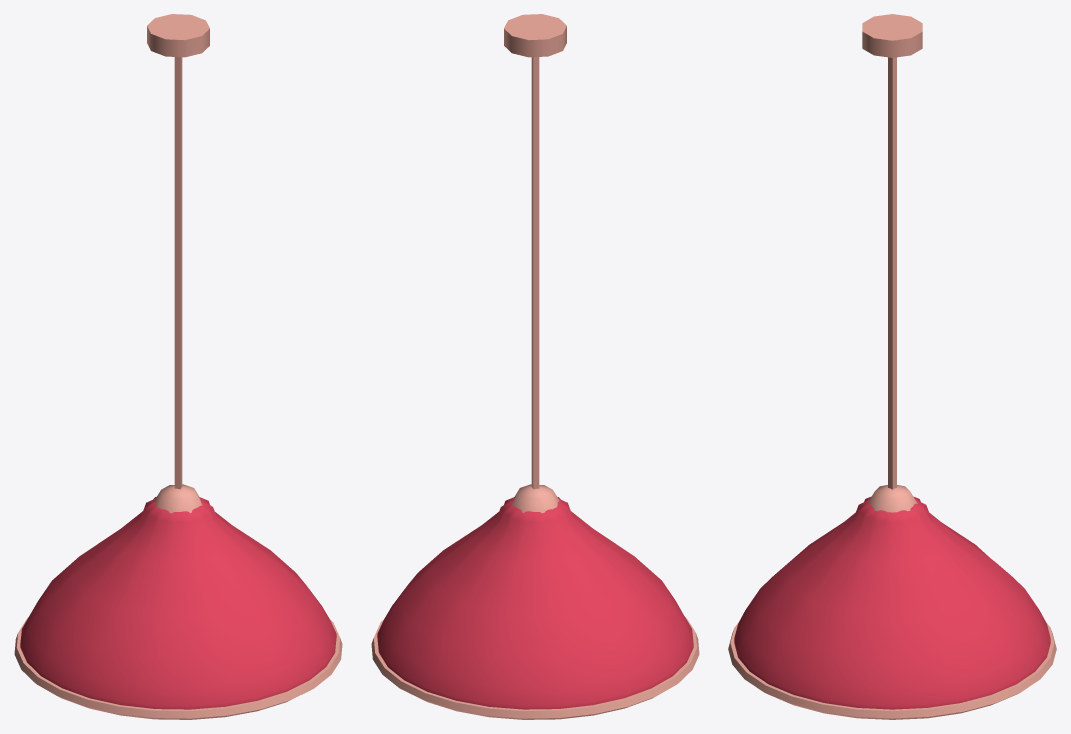
Rendered from pendant_lamp_cafe.glb.
3 views of the same model, side by side, from view 1: azimuth 30°, elevation 25°; view 2: azimuth 150°, elevation 25°; view 3: azimuth 270°, elevation 25° (orthographic).
Visible parts, largest first — view 1: pendant_lamp_cafe; view 2: pendant_lamp_cafe; view 3: pendant_lamp_cafe.
Part boxes in pixels (left/top/right/bottom): pendant_lamp_cafe: left=14, top=14, right=342, bottom=719; pendant_lamp_cafe: left=371, top=14, right=699, bottom=719; pendant_lamp_cafe: left=728, top=14, right=1056, bottom=719.
Size of the model in its own units: 0.519 by 1.14 by 0.519.
